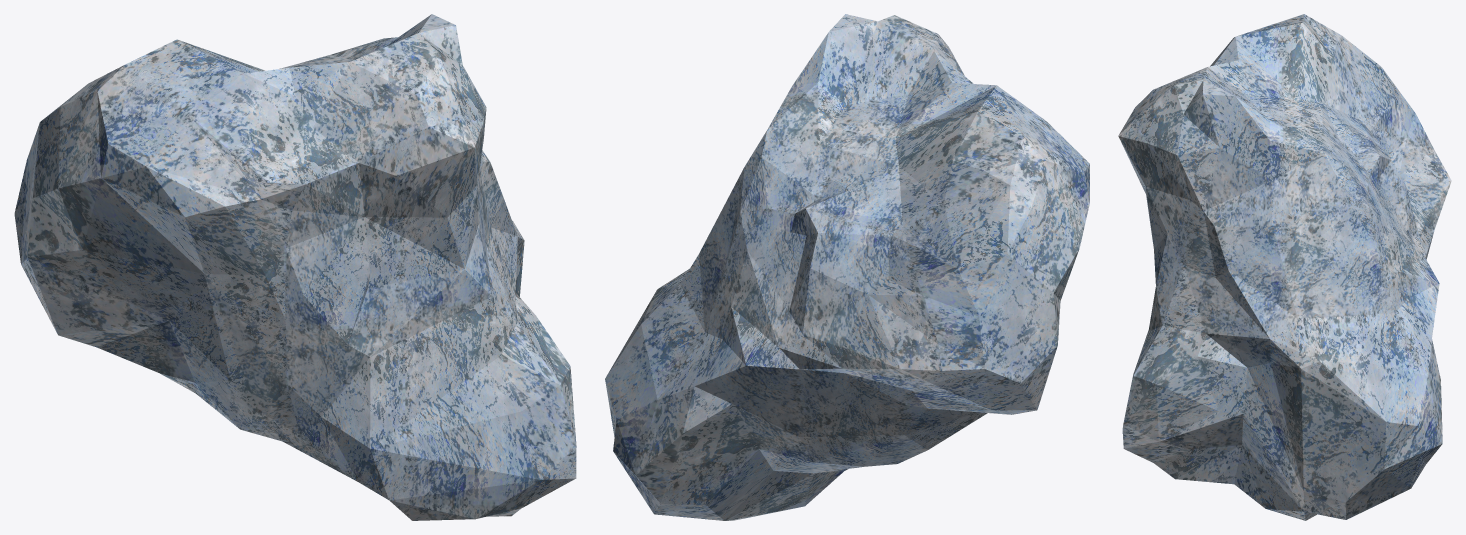
File: asteroid_ice_large_s02_l1.fbx
3 views of the same model, side by side, from view 1: azimuth 30°, elevation 25°; view 2: azimuth 150°, elevation 25°; view 3: azimuth 270°, elevation 25° (orthographic). The views are drawn at different scales.
Parts seen in each view (by area): view 1: mesh_node; view 2: mesh_node; view 3: mesh_node.
Boxes of the visible parts, bbox=[...] form: mesh_node: bbox=[14, 14, 576, 520]; mesh_node: bbox=[605, 14, 1089, 520]; mesh_node: bbox=[1118, 14, 1451, 520].
Bounding box in the file's own units: 112 × 118 × 88.15.
1 material, 1 textured.
